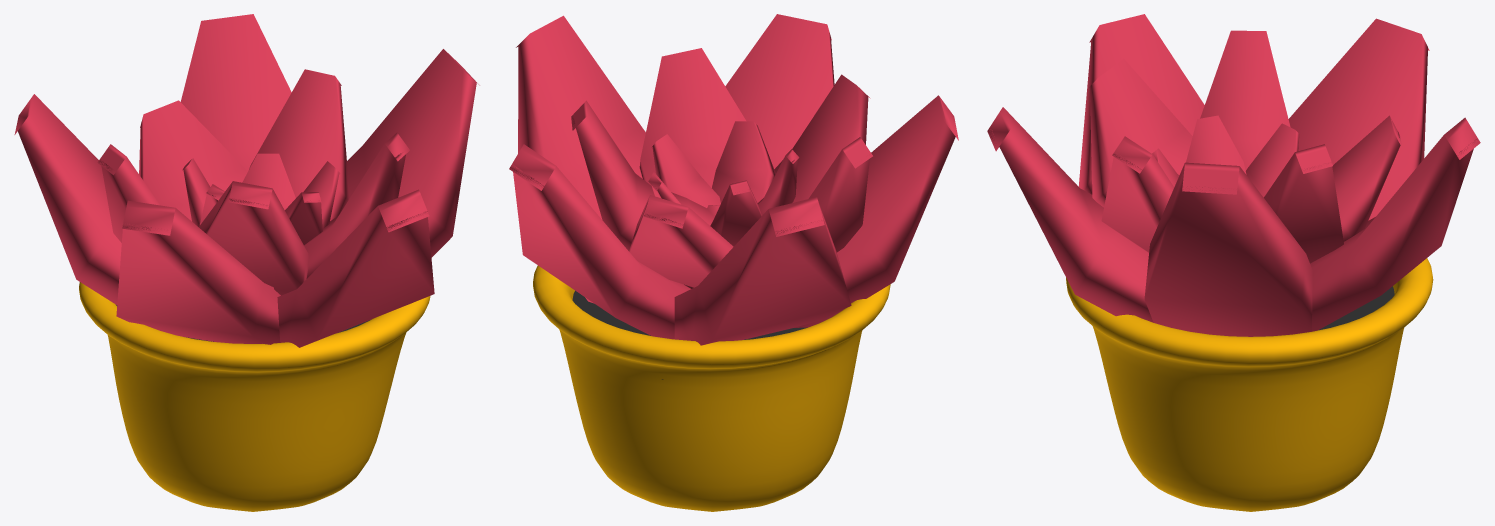
File: plant.glb
3 views of the same model, side by side, from view 1: azimuth 30°, elevation 25°; view 2: azimuth 150°, elevation 25°; view 3: azimuth 270°, elevation 25° (orthographic). The views are drawn at different scales.
Parts seen in each view (by area): view 1: Cylinder, Cube.002, Cube.011, Cube.001, Cube.003, Cube.008, Cube.009, Cube.006, Cube.004, Cube.007, Cube.010, Cube.016 (+3 smaller); view 2: Cylinder, Cube.008, Cube.003, Cube.001, Cube.002, Cube.011, Cube.007, Cube.004, Cube.006, Cube.009, Cube.010, Cube.014 (+5 smaller); view 3: Cylinder, Cube.001, Cube.008, Cube.003, Cube.011, Cube.009, Cube.010, Cube.002, Cube.006, Cube.007, Cube.004, Cube.013 (+2 smaller).
Boxes of the visible parts, bbox=[...] form: Cylinder: bbox=[79, 282, 430, 511]; Cube.002: bbox=[116, 200, 280, 344]; Cube.011: bbox=[277, 189, 434, 347]; Cube.001: bbox=[347, 49, 479, 257]; Cube.003: bbox=[180, 14, 291, 171]; Cube.008: bbox=[14, 94, 121, 304]; Cube.009: bbox=[199, 181, 308, 295]; Cube.006: bbox=[249, 69, 349, 220]; Cube.004: bbox=[139, 100, 247, 221]; Cube.007: bbox=[304, 132, 409, 278]; Cube.010: bbox=[97, 144, 159, 242]; Cube.016: bbox=[242, 153, 295, 209]; Cylinder: bbox=[533, 265, 890, 511]; Cube.008: bbox=[674, 197, 851, 345]; Cube.003: bbox=[509, 144, 690, 339]; Cube.001: bbox=[516, 15, 645, 303]; Cube.002: bbox=[794, 95, 958, 327]; Cube.011: bbox=[725, 14, 834, 168]; Cube.007: bbox=[639, 48, 746, 187]; Cube.004: bbox=[629, 195, 733, 287]; Cube.006: bbox=[571, 100, 693, 288]; Cube.009: bbox=[774, 74, 870, 202]; Cube.010: bbox=[808, 137, 872, 252]; Cube.014: bbox=[712, 121, 775, 202]; Cylinder: bbox=[1066, 258, 1433, 511]; Cube.001: bbox=[1144, 162, 1312, 336]; Cube.008: bbox=[1288, 18, 1429, 220]; Cube.003: bbox=[1310, 117, 1480, 331]; Cube.011: bbox=[987, 107, 1153, 322]; Cube.009: bbox=[1089, 59, 1192, 207]; Cube.010: bbox=[1200, 30, 1290, 170]; Cube.002: bbox=[1078, 14, 1204, 194]; Cube.006: bbox=[1264, 144, 1343, 263]; Cube.007: bbox=[1101, 136, 1174, 252]; Cube.004: bbox=[1332, 115, 1402, 241]; Cube.013: bbox=[1186, 115, 1246, 174].
Bounding box in the file's own units: 2.92 × 2.84 × 3.09.
